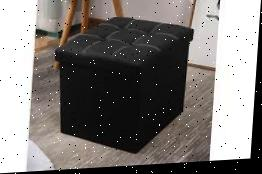cube: (55, 14, 193, 157)
